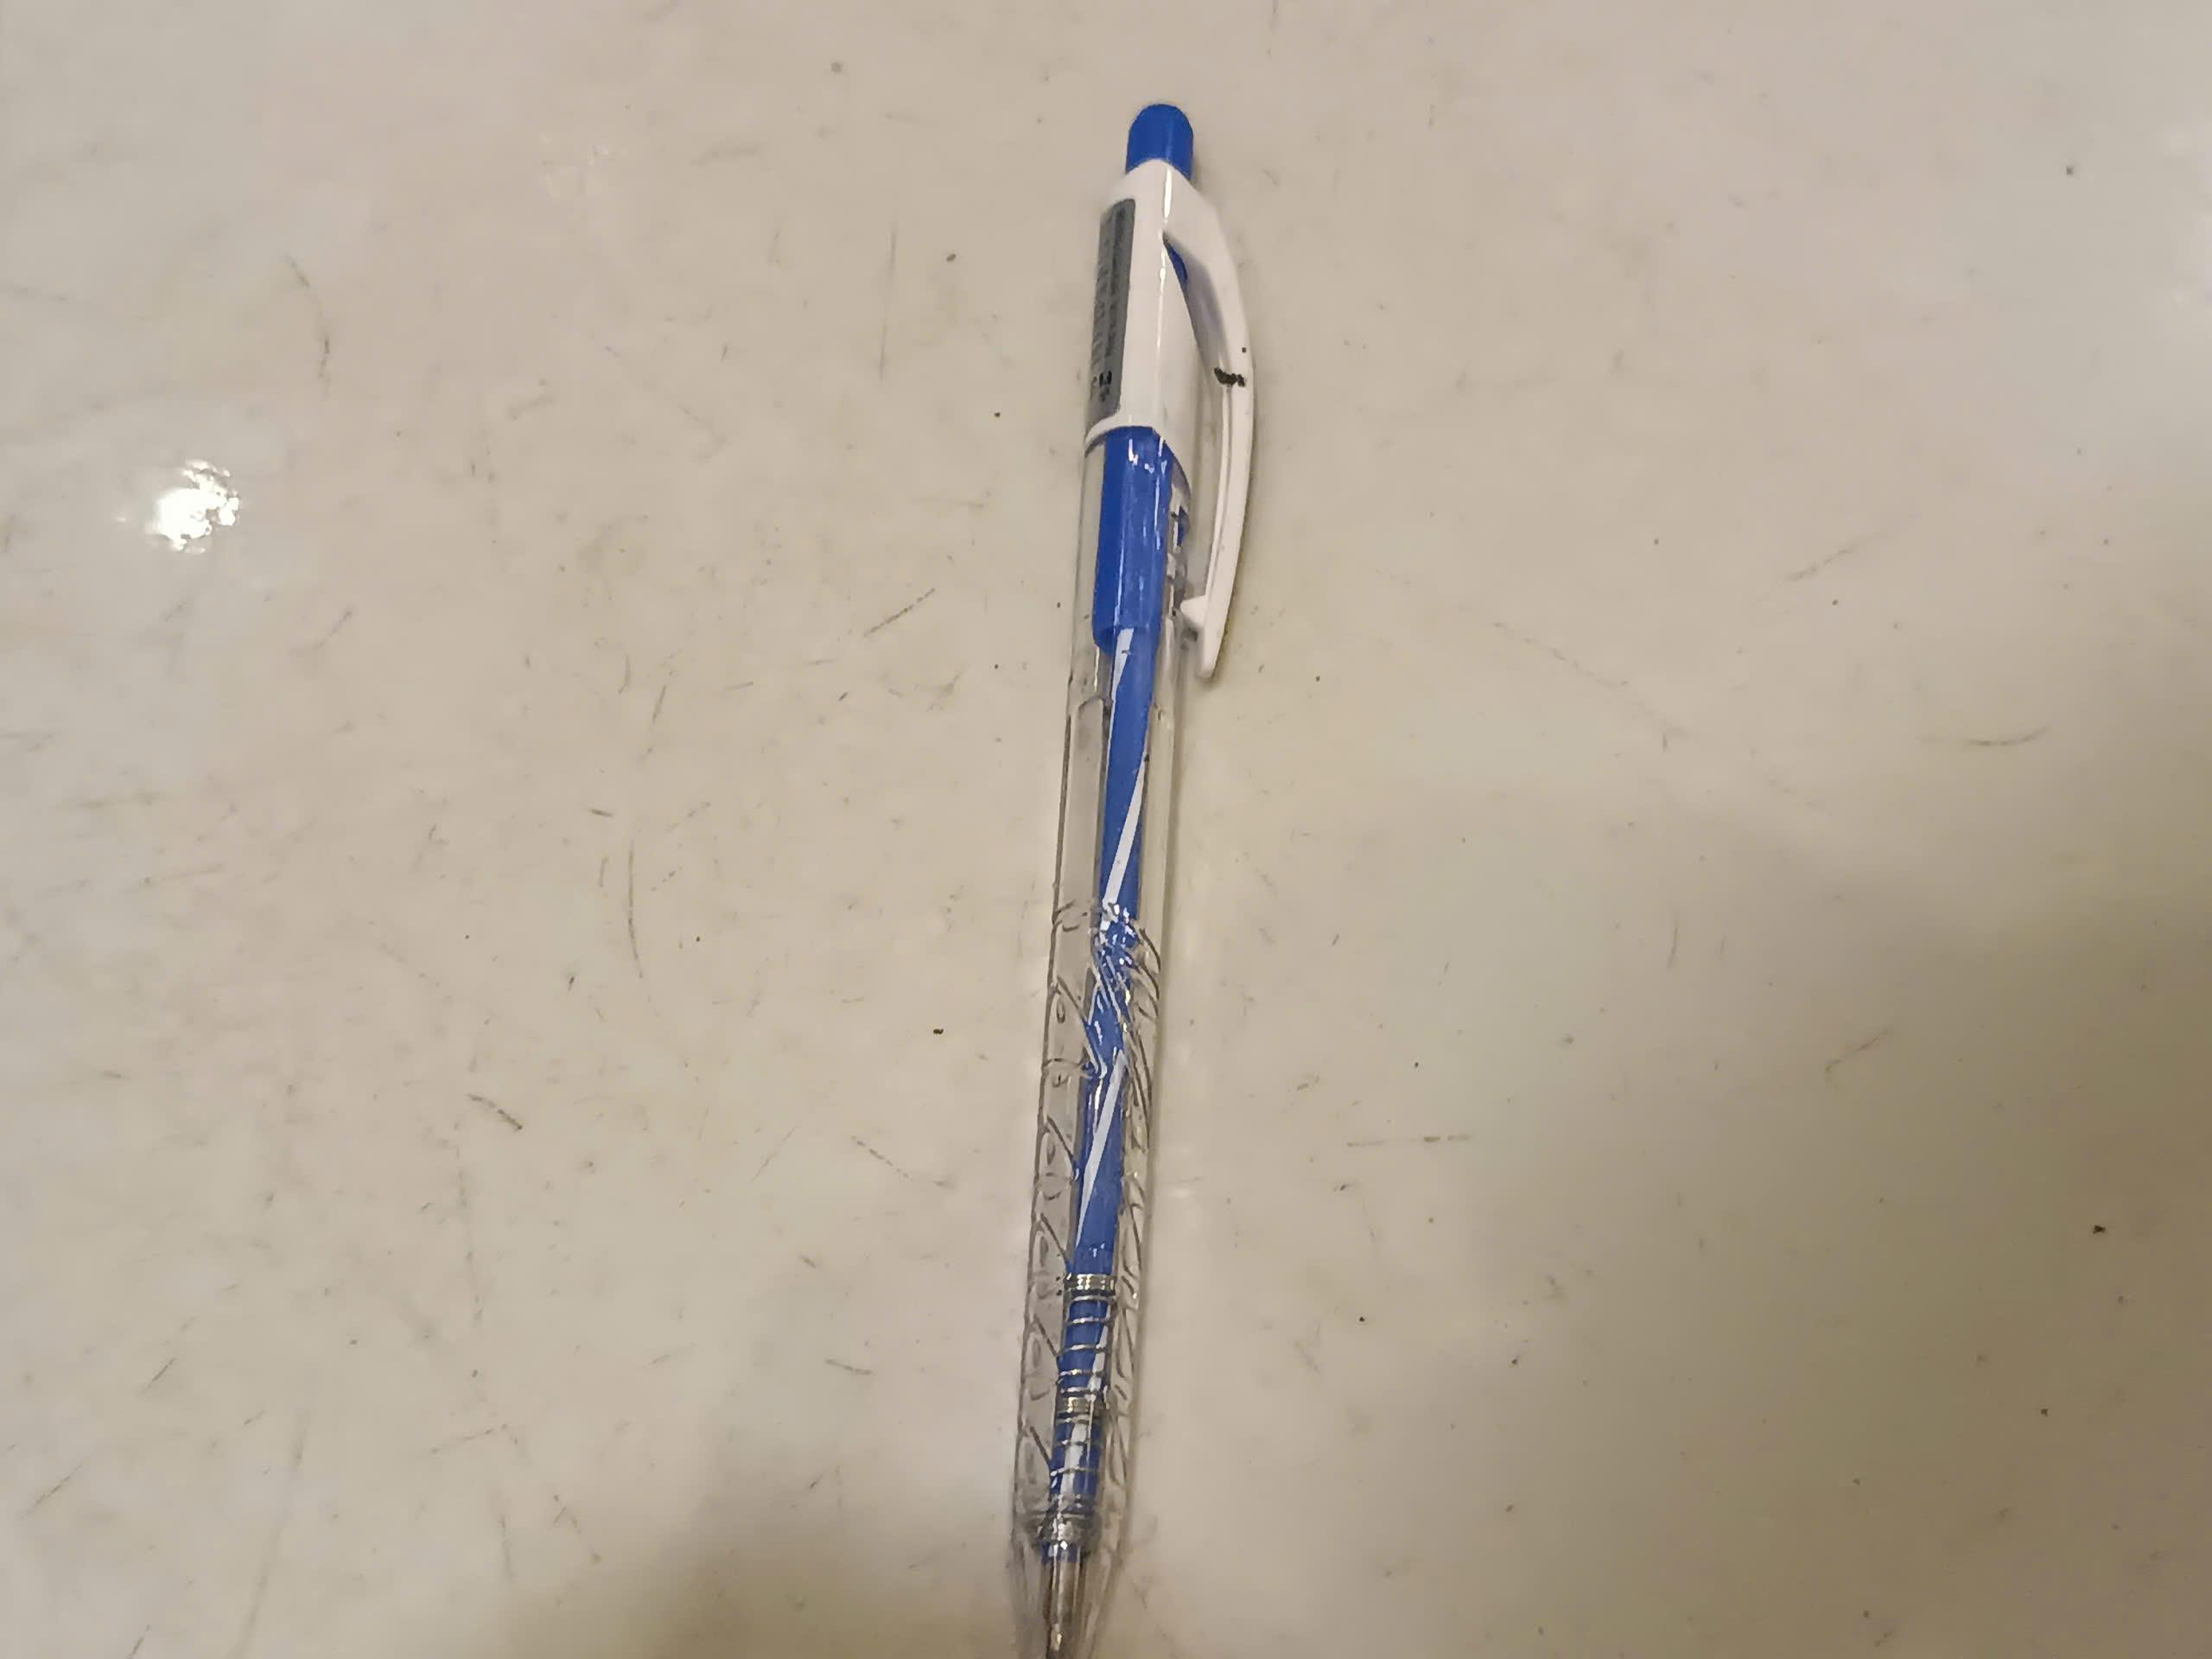Con lai: (1014, 99, 1261, 1659)
